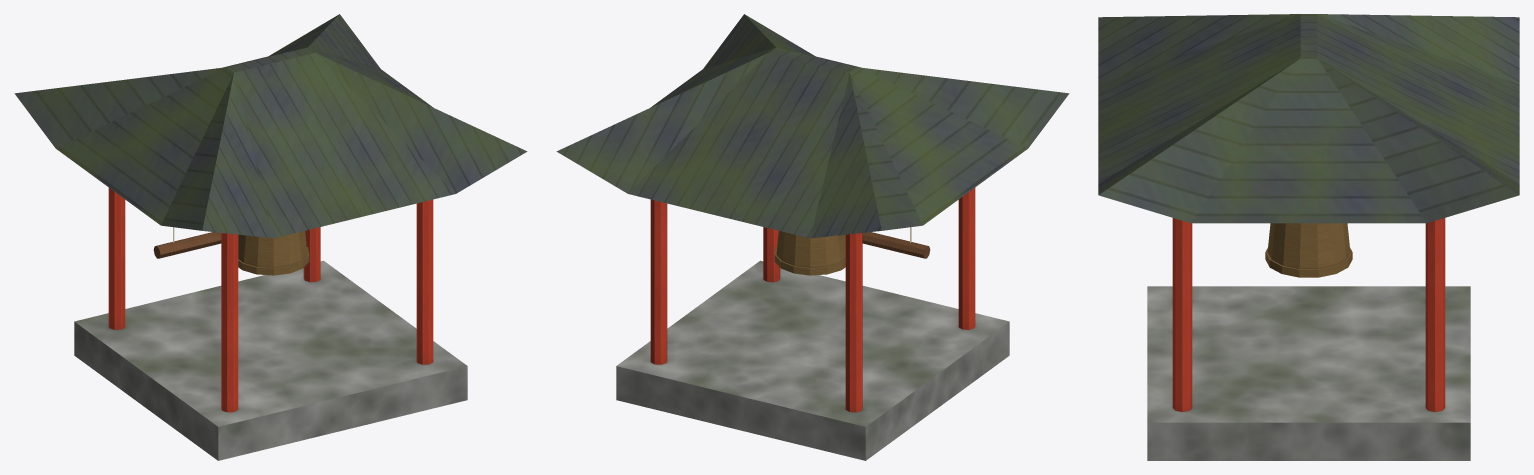
Rendered from tempelklocka_tex.glb.
3 renders of one model, left to right at view 1: azimuth 30°, elevation 25°; view 2: azimuth 150°, elevation 25°; view 3: azimuth 270°, elevation 25°, orthographic. The views are drawn at different scales.
Visible parts, largest first — view 1: Paviljong, Stock; view 2: Paviljong, Stock; view 3: Paviljong.
Boxes of the visible parts, box(x1,y1,x2,y2) form: Paviljong: box(14, 14, 527, 460); Stock: box(153, 227, 221, 258); Paviljong: box(556, 14, 1069, 460); Stock: box(862, 227, 930, 258); Paviljong: box(1098, 14, 1519, 460).
Size of the model in its own units: 6 by 5.6 by 6.
Materials: 7 (5 with a texture image).
